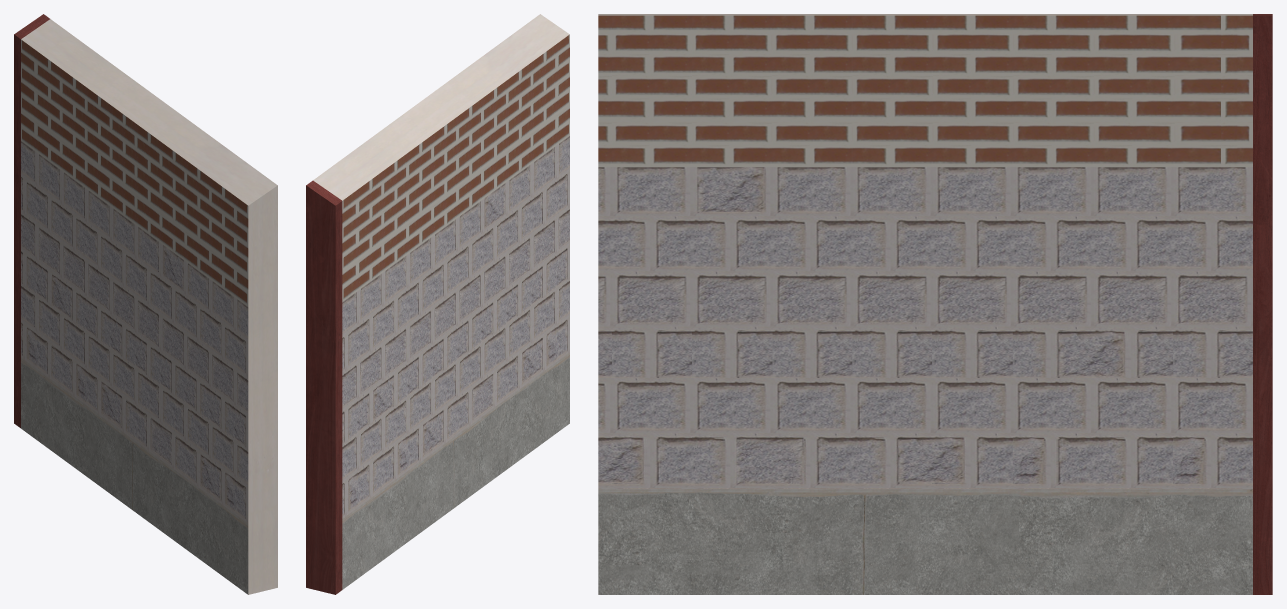
The model's file is SM_StoneWall02F.fbx.
3 renders of one model, left to right at view 1: azimuth 30°, elevation 25°; view 2: azimuth 150°, elevation 25°; view 3: azimuth 270°, elevation 25°, orthographic. The views are drawn at different scales.
Visible parts, largest first — view 1: SM_StoneWall02F; view 2: SM_StoneWall02F; view 3: SM_StoneWall02F.
Part boxes in pixels (box(x1,y1,x2,y2)): SM_StoneWall02F: box(14, 14, 277, 594); SM_StoneWall02F: box(306, 14, 569, 594); SM_StoneWall02F: box(598, 14, 1272, 594).
Size of the model in its own units: 17.02 by 234 by 222.
